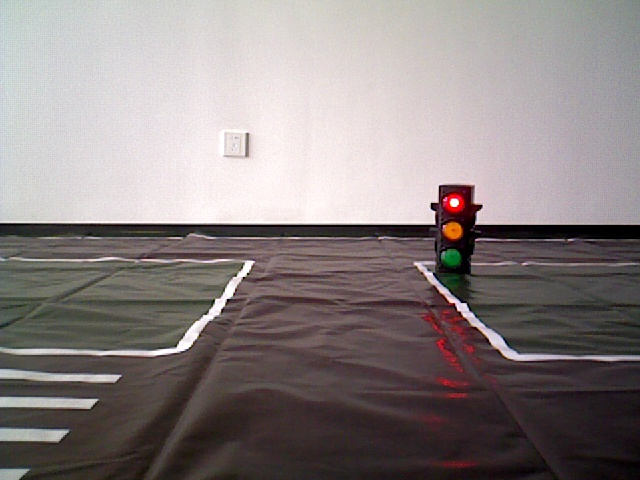red: (436, 185, 469, 275)
